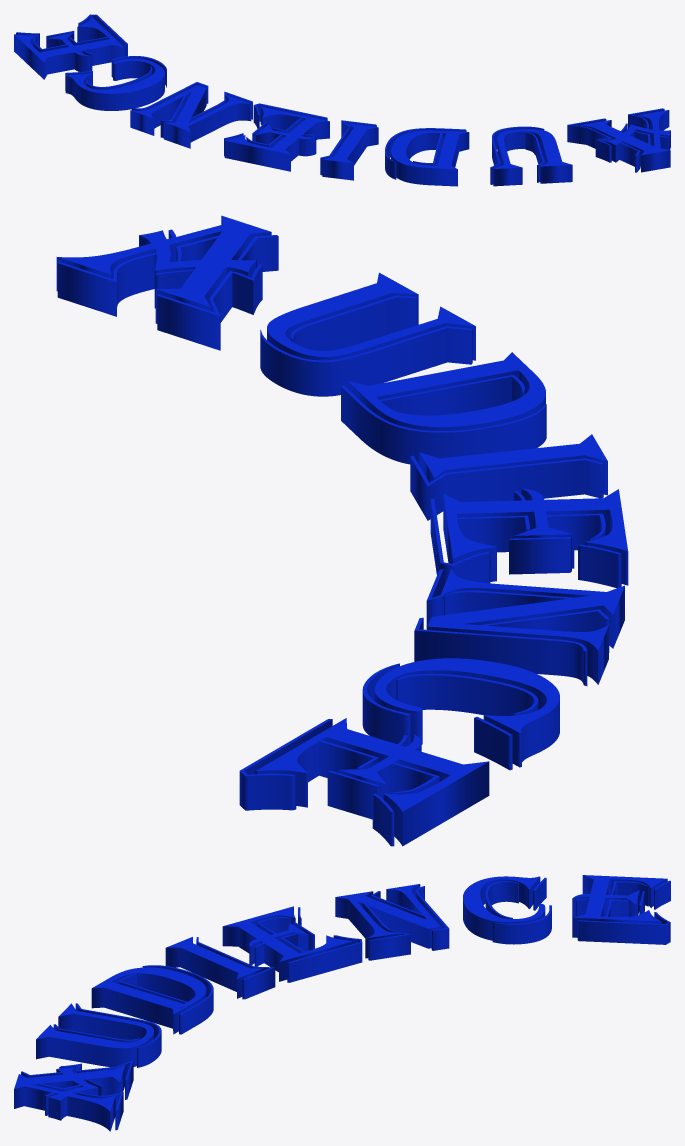
File: audience-sign.fbx
3 renders of one model, top to bottom at view 1: azimuth 30°, elevation 25°; view 2: azimuth 150°, elevation 25°; view 3: azimuth 270°, elevation 25°, orthographic. The views are drawn at different scales.
Visible parts, largest first — view 1: Text; view 2: Text; view 3: Text.
Boxes of the visible parts, <box> form: Text: <box>14,14,670,186</box>; Text: <box>56,215,628,846</box>; Text: <box>14,875,670,1131</box>.
Bounding box in the file's own units: 307 × 12 × 359.
